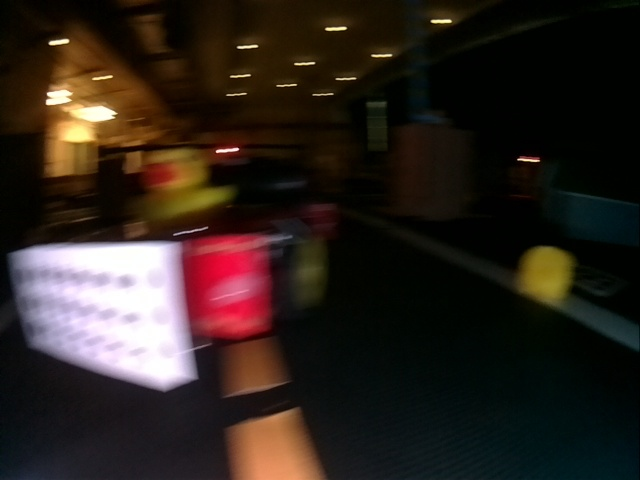Duckie: (141, 149, 230, 213), (515, 248, 574, 299)
Duckiebot: (10, 198, 339, 388)
QR code: (579, 264, 625, 297)
